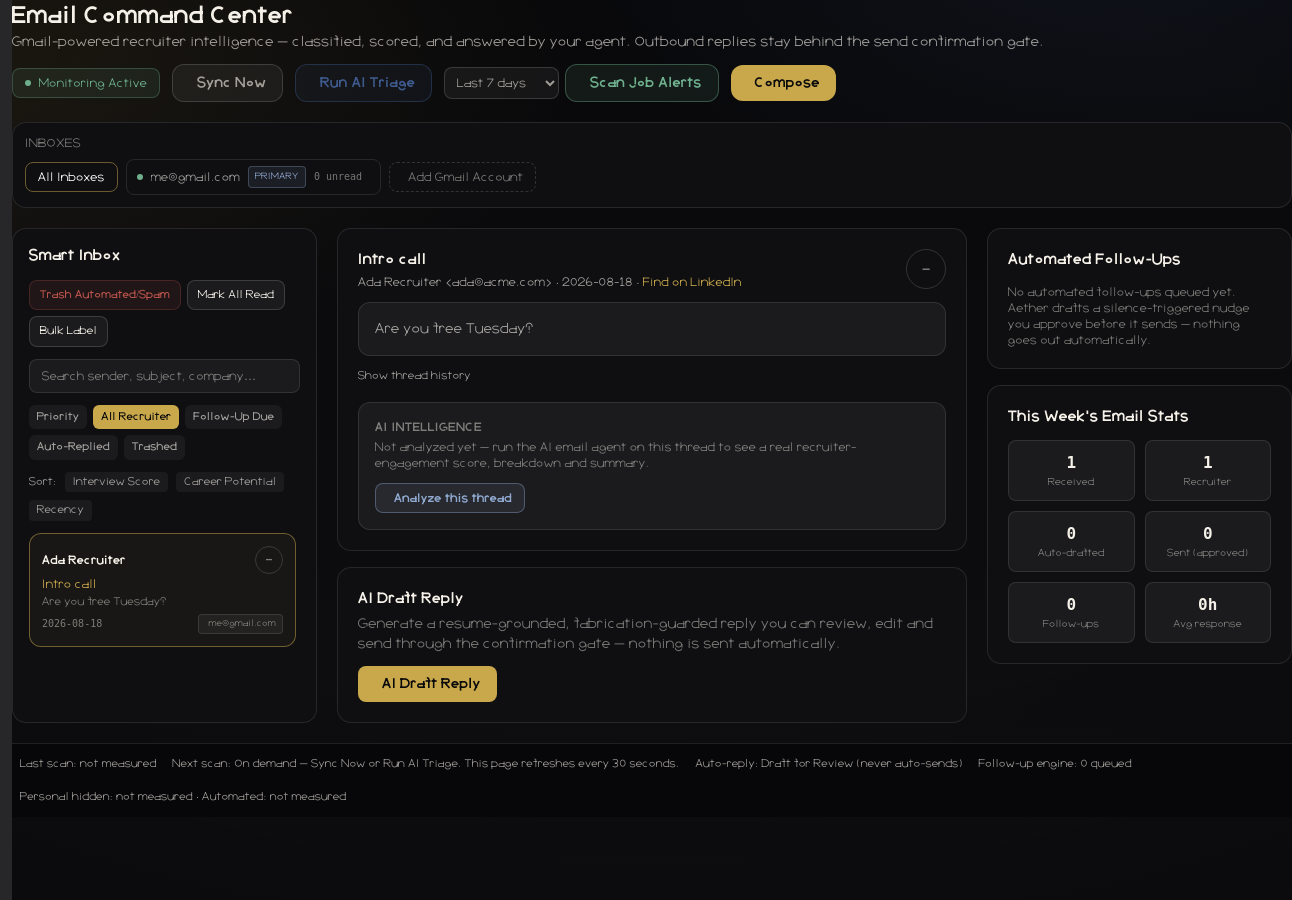
Test: triage light-retry control (ADR-ML-3 explicit Haiku) › does not offer a lighter-model retry when the warning is a Gmail reconnect
Click the button with test id "run-triage-btn": point(364, 83) [295,64,432,102]
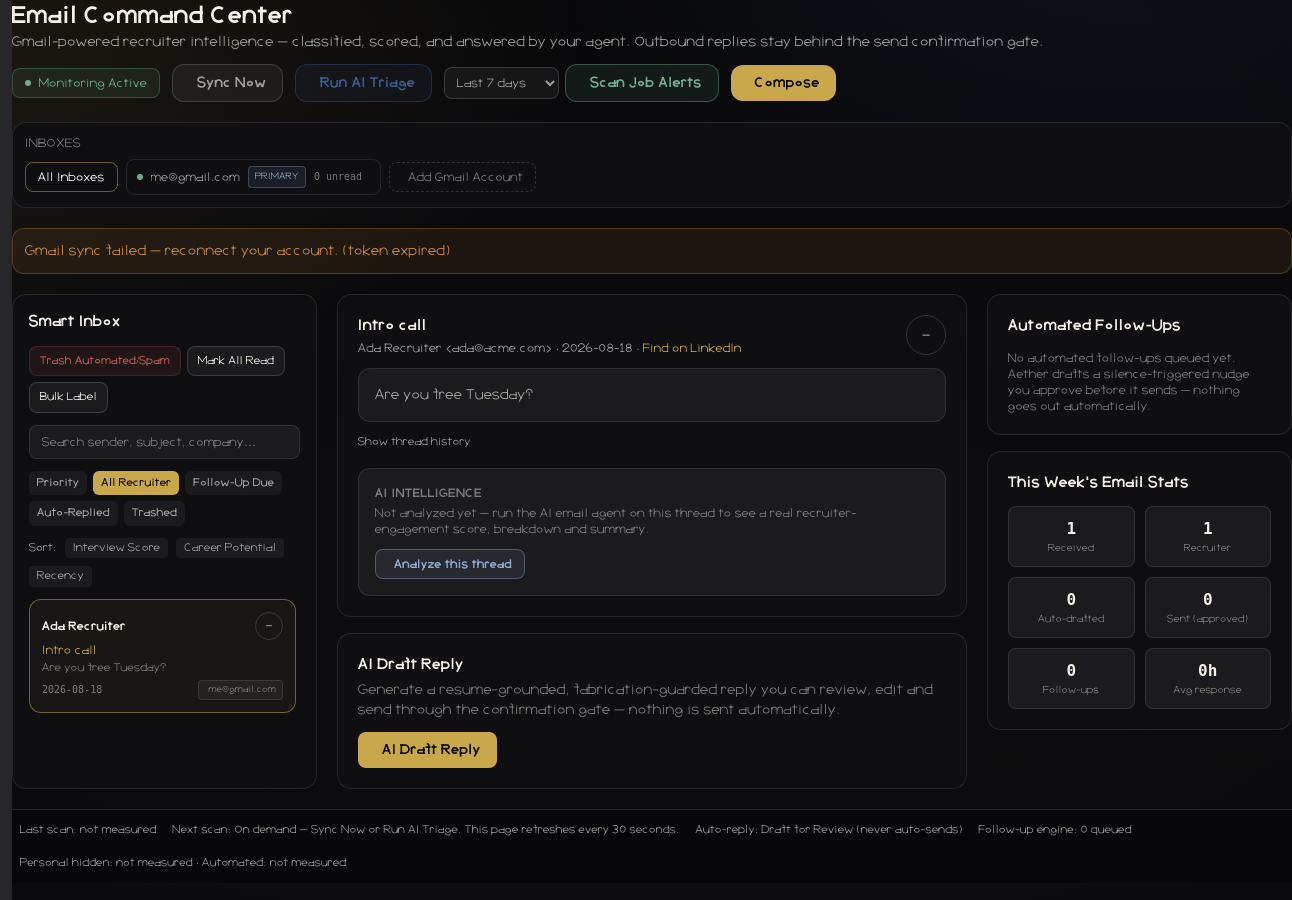
Expected: the message "Gmail sync failed — reconnect your account. (token expired)" is shown, [12,228,1291,274]
